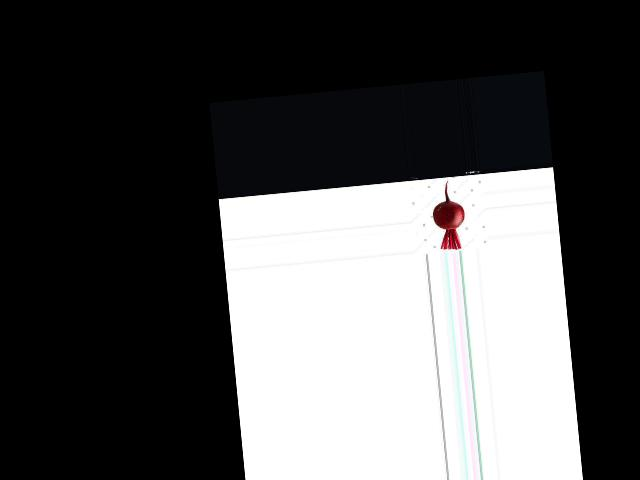beet: (429, 177, 467, 251)
